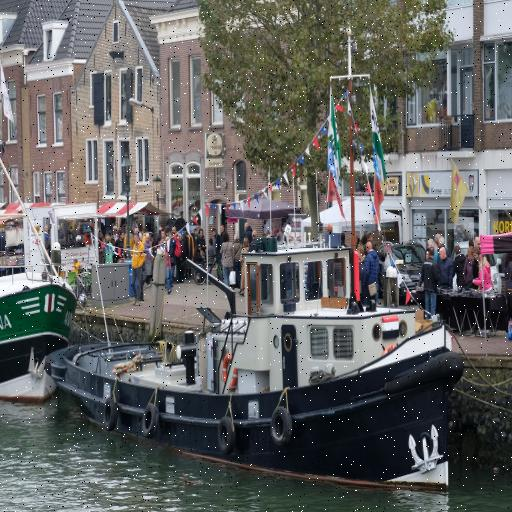tugboat: (43, 161, 463, 500)
